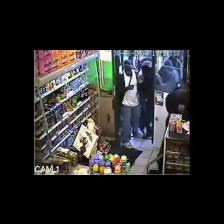person: (116, 60, 140, 148), (139, 61, 153, 138), (166, 84, 189, 129), (156, 59, 179, 92)
